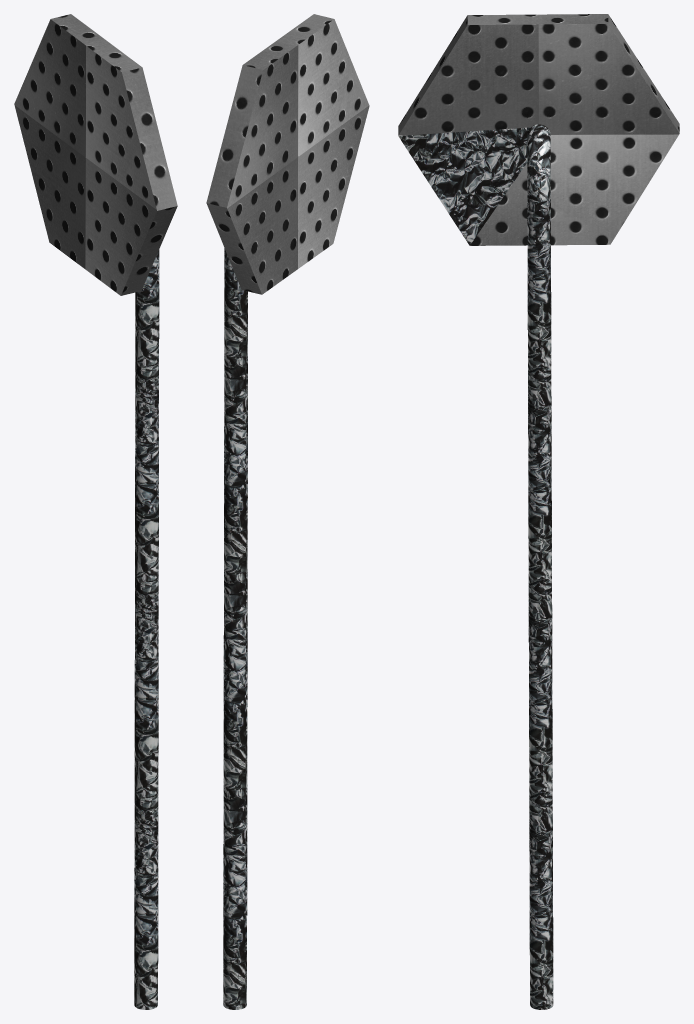
The model's file is stand_withTexture.obj.
3 renders of one model, left to right at view 1: azimuth 30°, elevation 25°; view 2: azimuth 150°, elevation 25°; view 3: azimuth 270°, elevation 25°, orthographic.
Visible parts, largest first — view 1: Stand v2; view 2: Stand v2; view 3: Stand v2.
Part boxes in pixels (box(x1,y1,x2,y2)): Stand v2: box(14, 14, 177, 1009); Stand v2: box(206, 14, 369, 1009); Stand v2: box(398, 14, 679, 1009).
Bounding box in the file's own units: 3.5 × 45.22 × 12.
2 materials, 2 textured.
